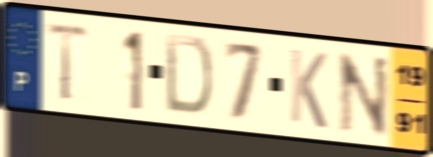1: (120, 28, 146, 113)
7: (222, 39, 267, 124)
D: (163, 30, 215, 119)
K: (287, 45, 329, 133)
N: (335, 50, 392, 140)
T: (43, 19, 92, 104)
